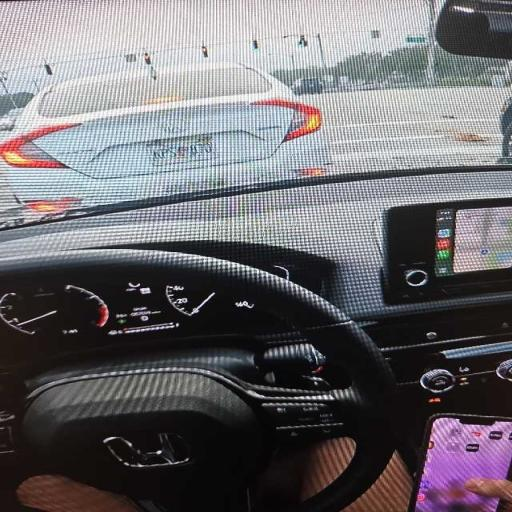car: (0, 0, 511, 511), (0, 63, 328, 207), (500, 97, 511, 157), (292, 77, 324, 94), (0, 109, 23, 130)
lane: (298, 88, 511, 172)
person: (465, 479, 511, 511)
